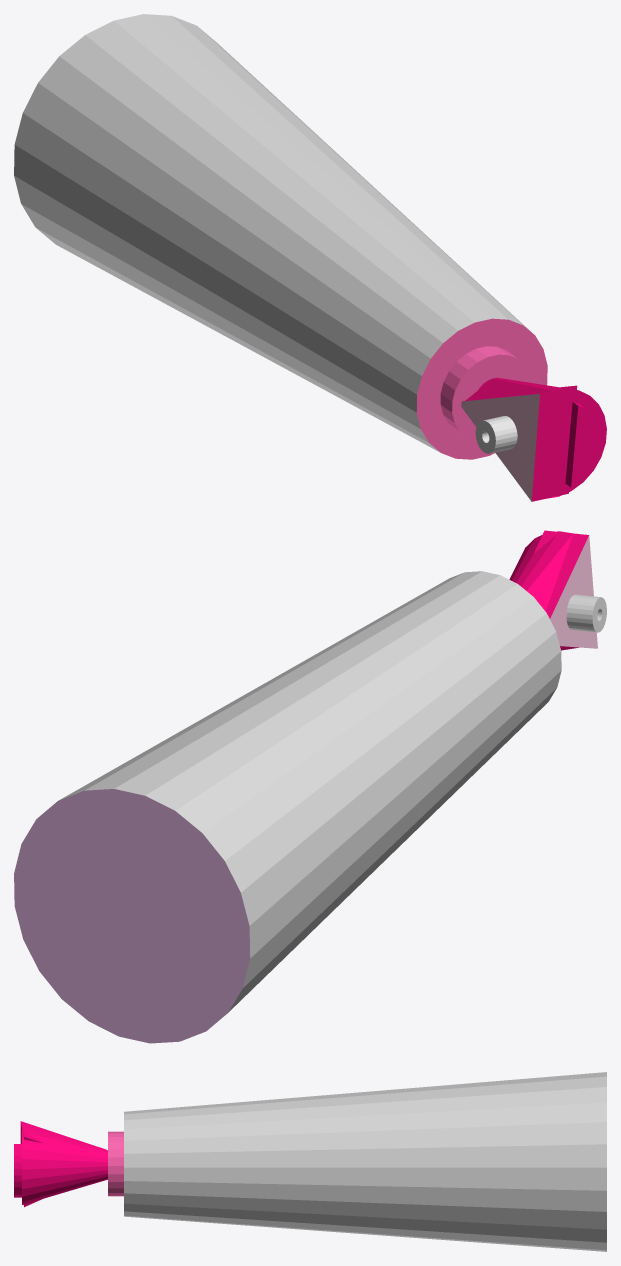
The picture shows the model from 3 angles, top to bottom: view 1: azimuth 30°, elevation 25°; view 2: azimuth 150°, elevation 25°; view 3: azimuth 270°, elevation 25°; orthographic projection. The views are drawn at different scales.
Visible parts, largest first — view 1: perfume spray; view 2: perfume spray; view 3: perfume spray.
Boxes of the visible parts, bbox=[...] form: perfume spray: bbox=[14, 14, 606, 501]; perfume spray: bbox=[14, 530, 606, 1043]; perfume spray: bbox=[14, 1072, 606, 1251].
Size of the model in its own units: 268 by 268 by 886.
